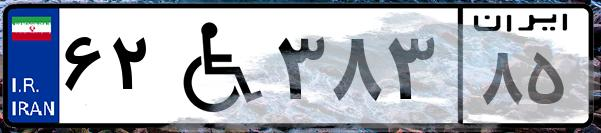2: (110, 28, 158, 98)
3: (270, 28, 330, 110), (385, 28, 445, 110)
5: (525, 38, 570, 115)
6: (57, 26, 110, 100)
8: (330, 28, 385, 110), (475, 38, 525, 113)
ژ (معلولین و جانبازان): (158, 12, 270, 120)
